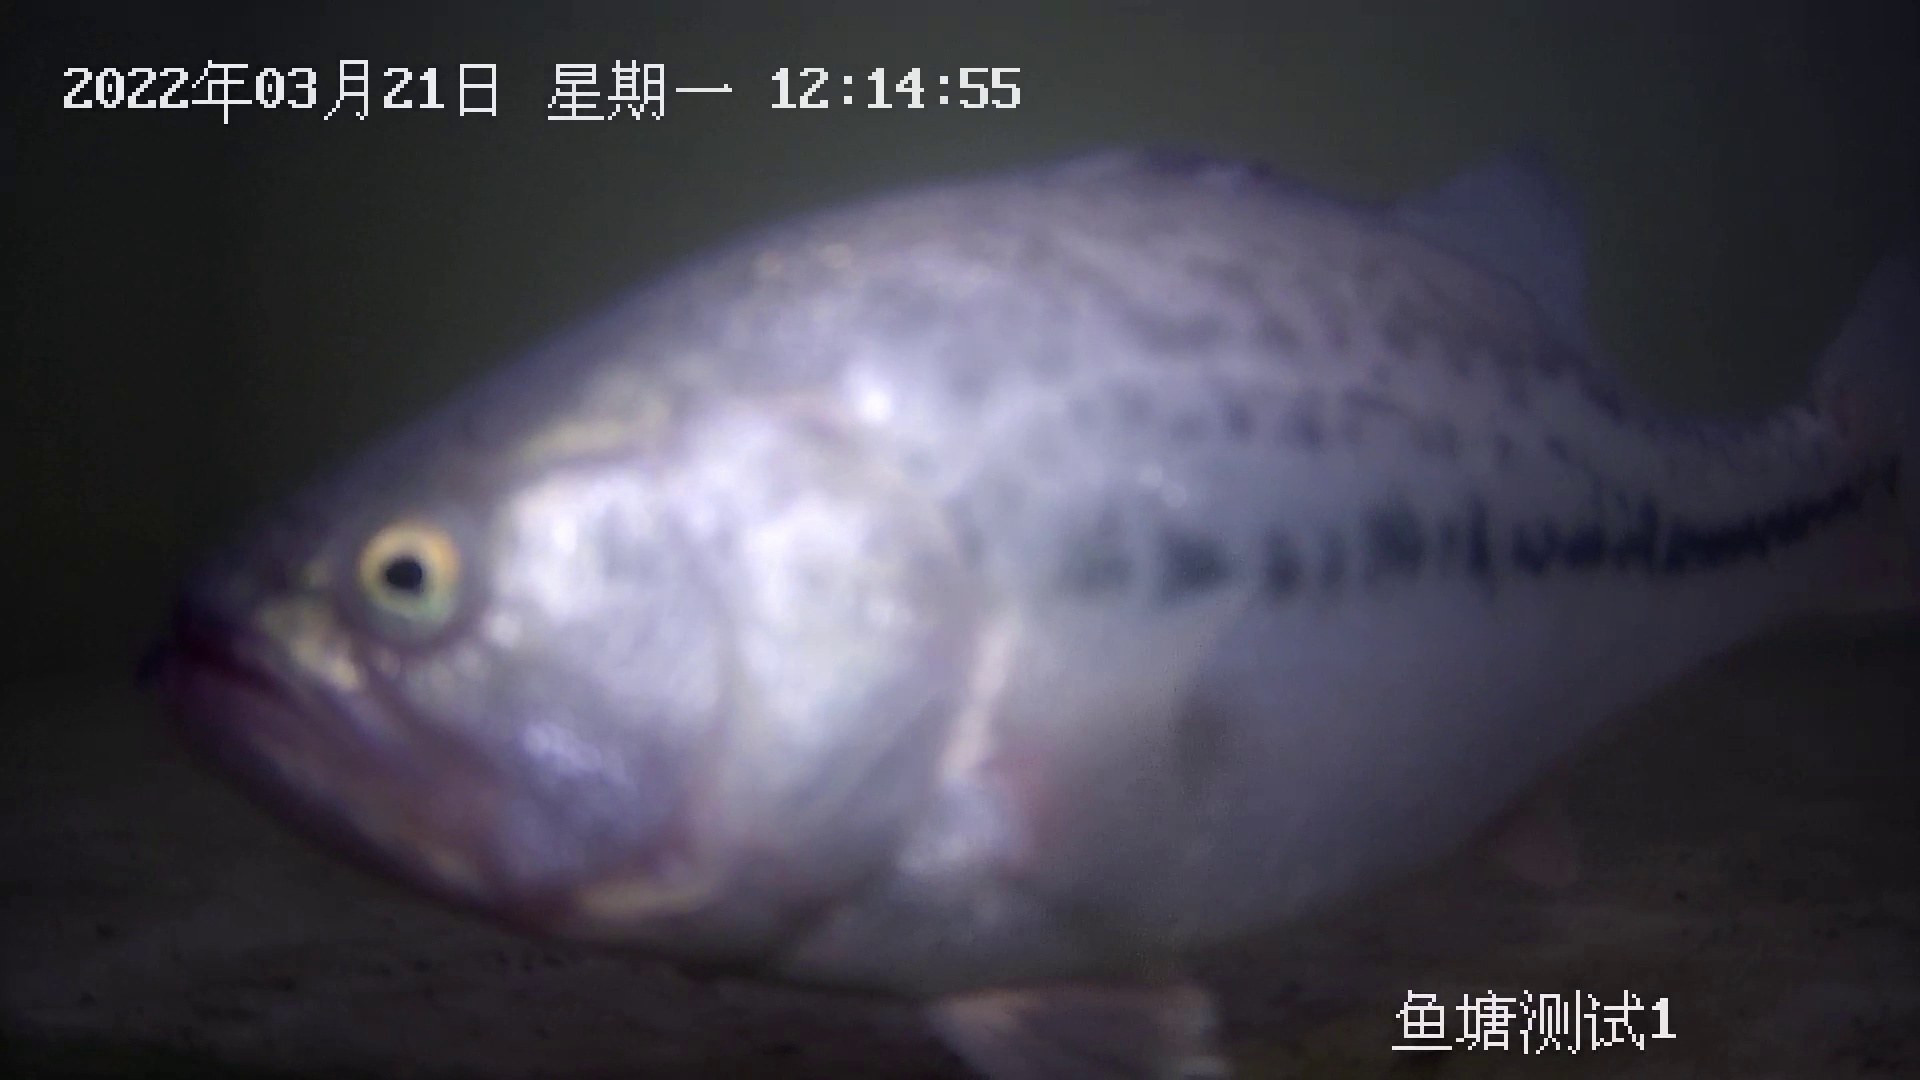fry: (154, 140, 1920, 1073)
